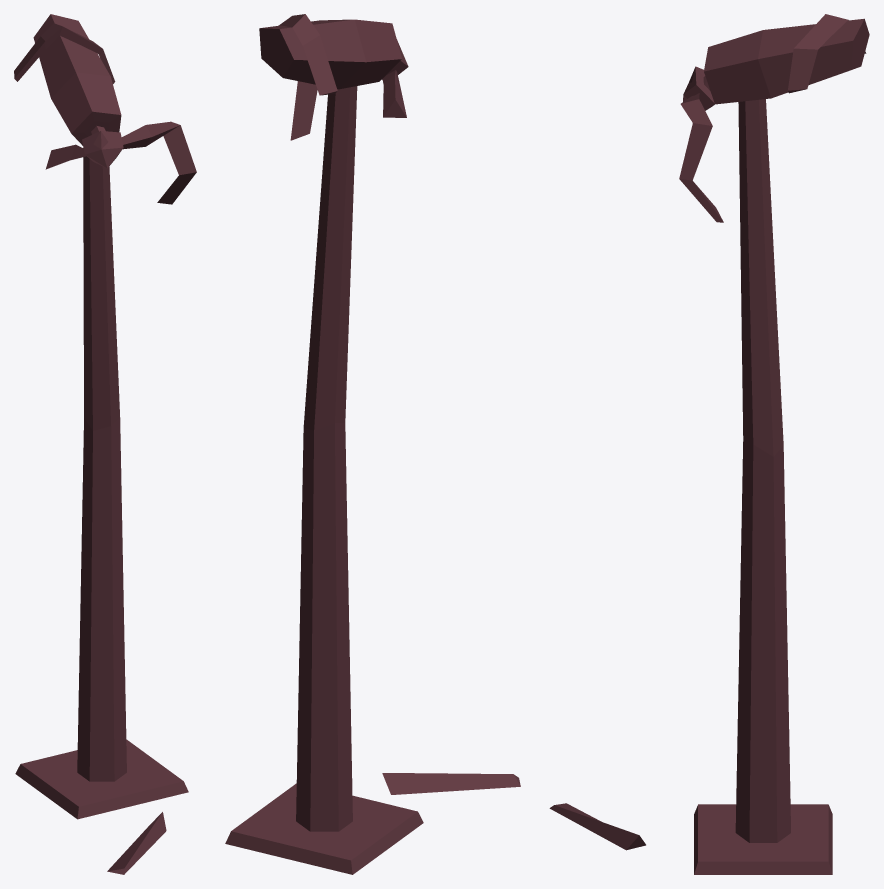
The model's file is windmill-apocalypse-b.fbx.
3 renders of one model, left to right at view 1: azimuth 30°, elevation 25°; view 2: azimuth 150°, elevation 25°; view 3: azimuth 270°, elevation 25°, orthographic. The views are drawn at different scales.
Parts seen in each view (by area): view 1: windmill-apocalypse-b; view 2: windmill-apocalypse-b; view 3: windmill-apocalypse-b.
Boxes of the visible parts, left/top/right/bottom form: windmill-apocalypse-b: left=14, top=14, right=196, bottom=874; windmill-apocalypse-b: left=225, top=14, right=520, bottom=874; windmill-apocalypse-b: left=549, top=14, right=869, bottom=874.
Size of the model in its own units: 3.15 by 15.92 by 5.58.
